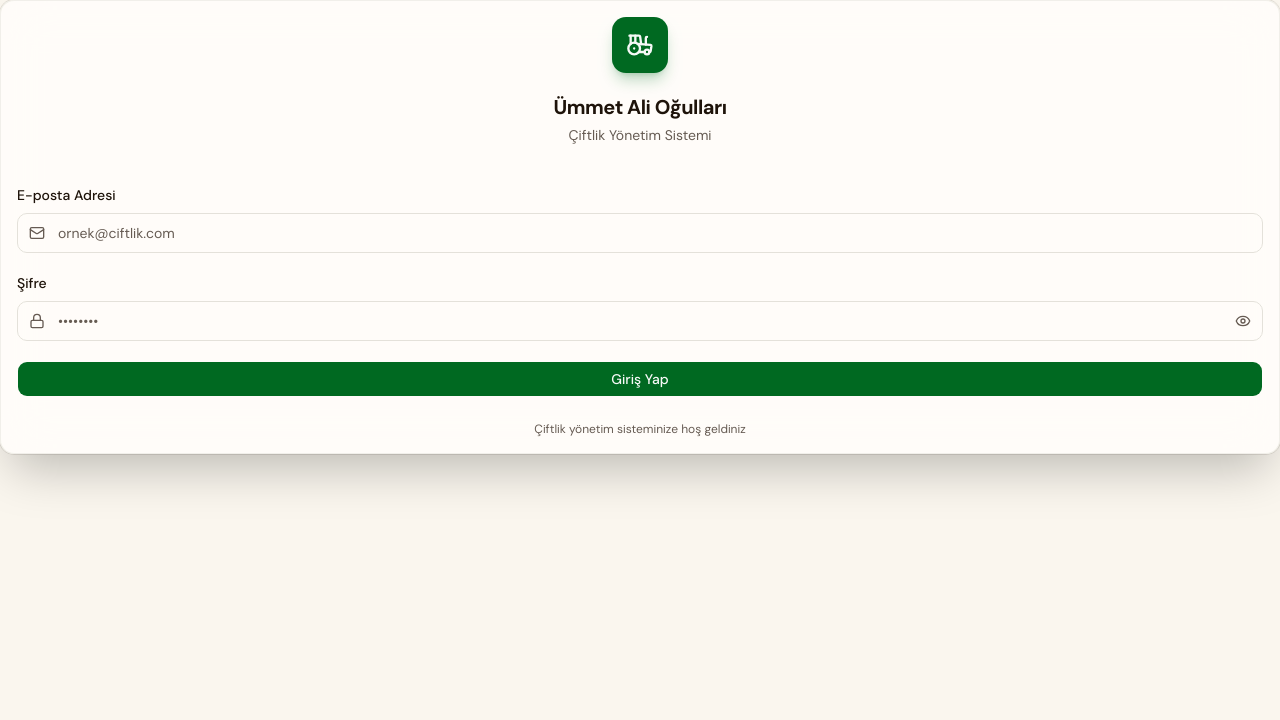
Test case: Login Page › shows validation error for empty email submission
What coordinates should you click on to do the following:
click the button "Giriş Yap"
I would click on:
 (640, 379)
Its box is [17,361,1263,397].
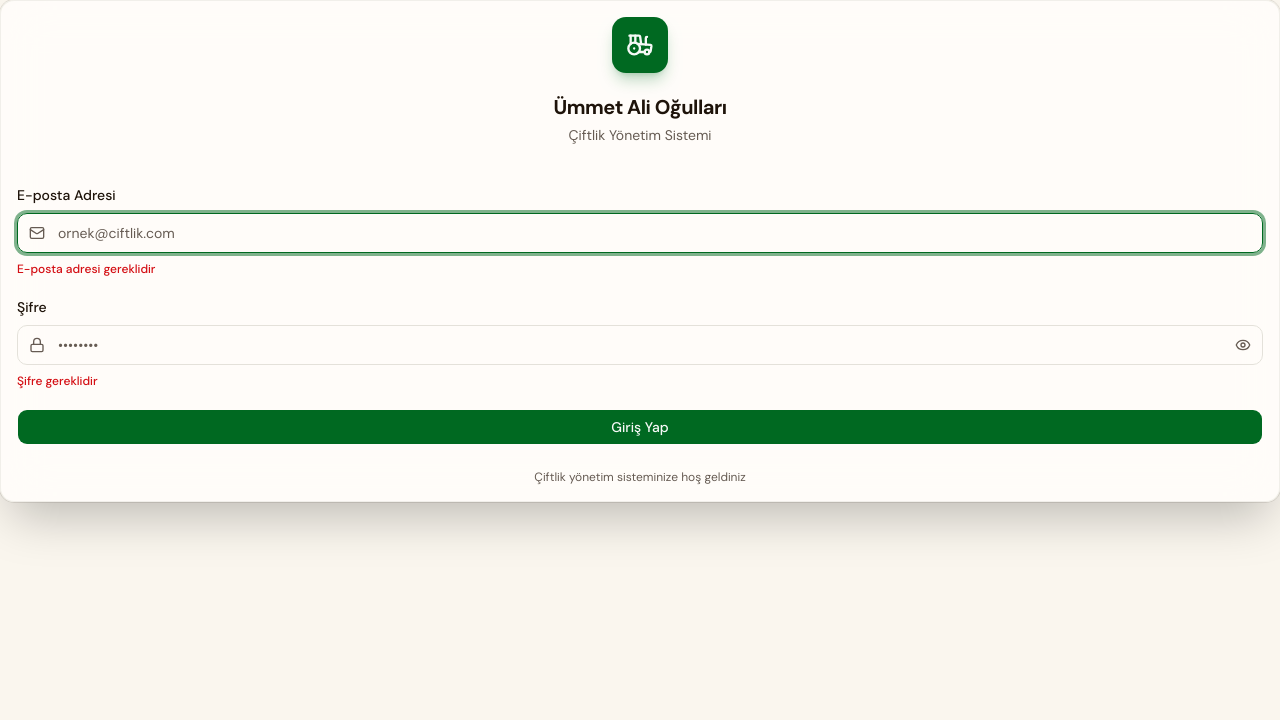
Check: the text "E-posta adresi gereklidir" is shown, box [17,261,156,277]
